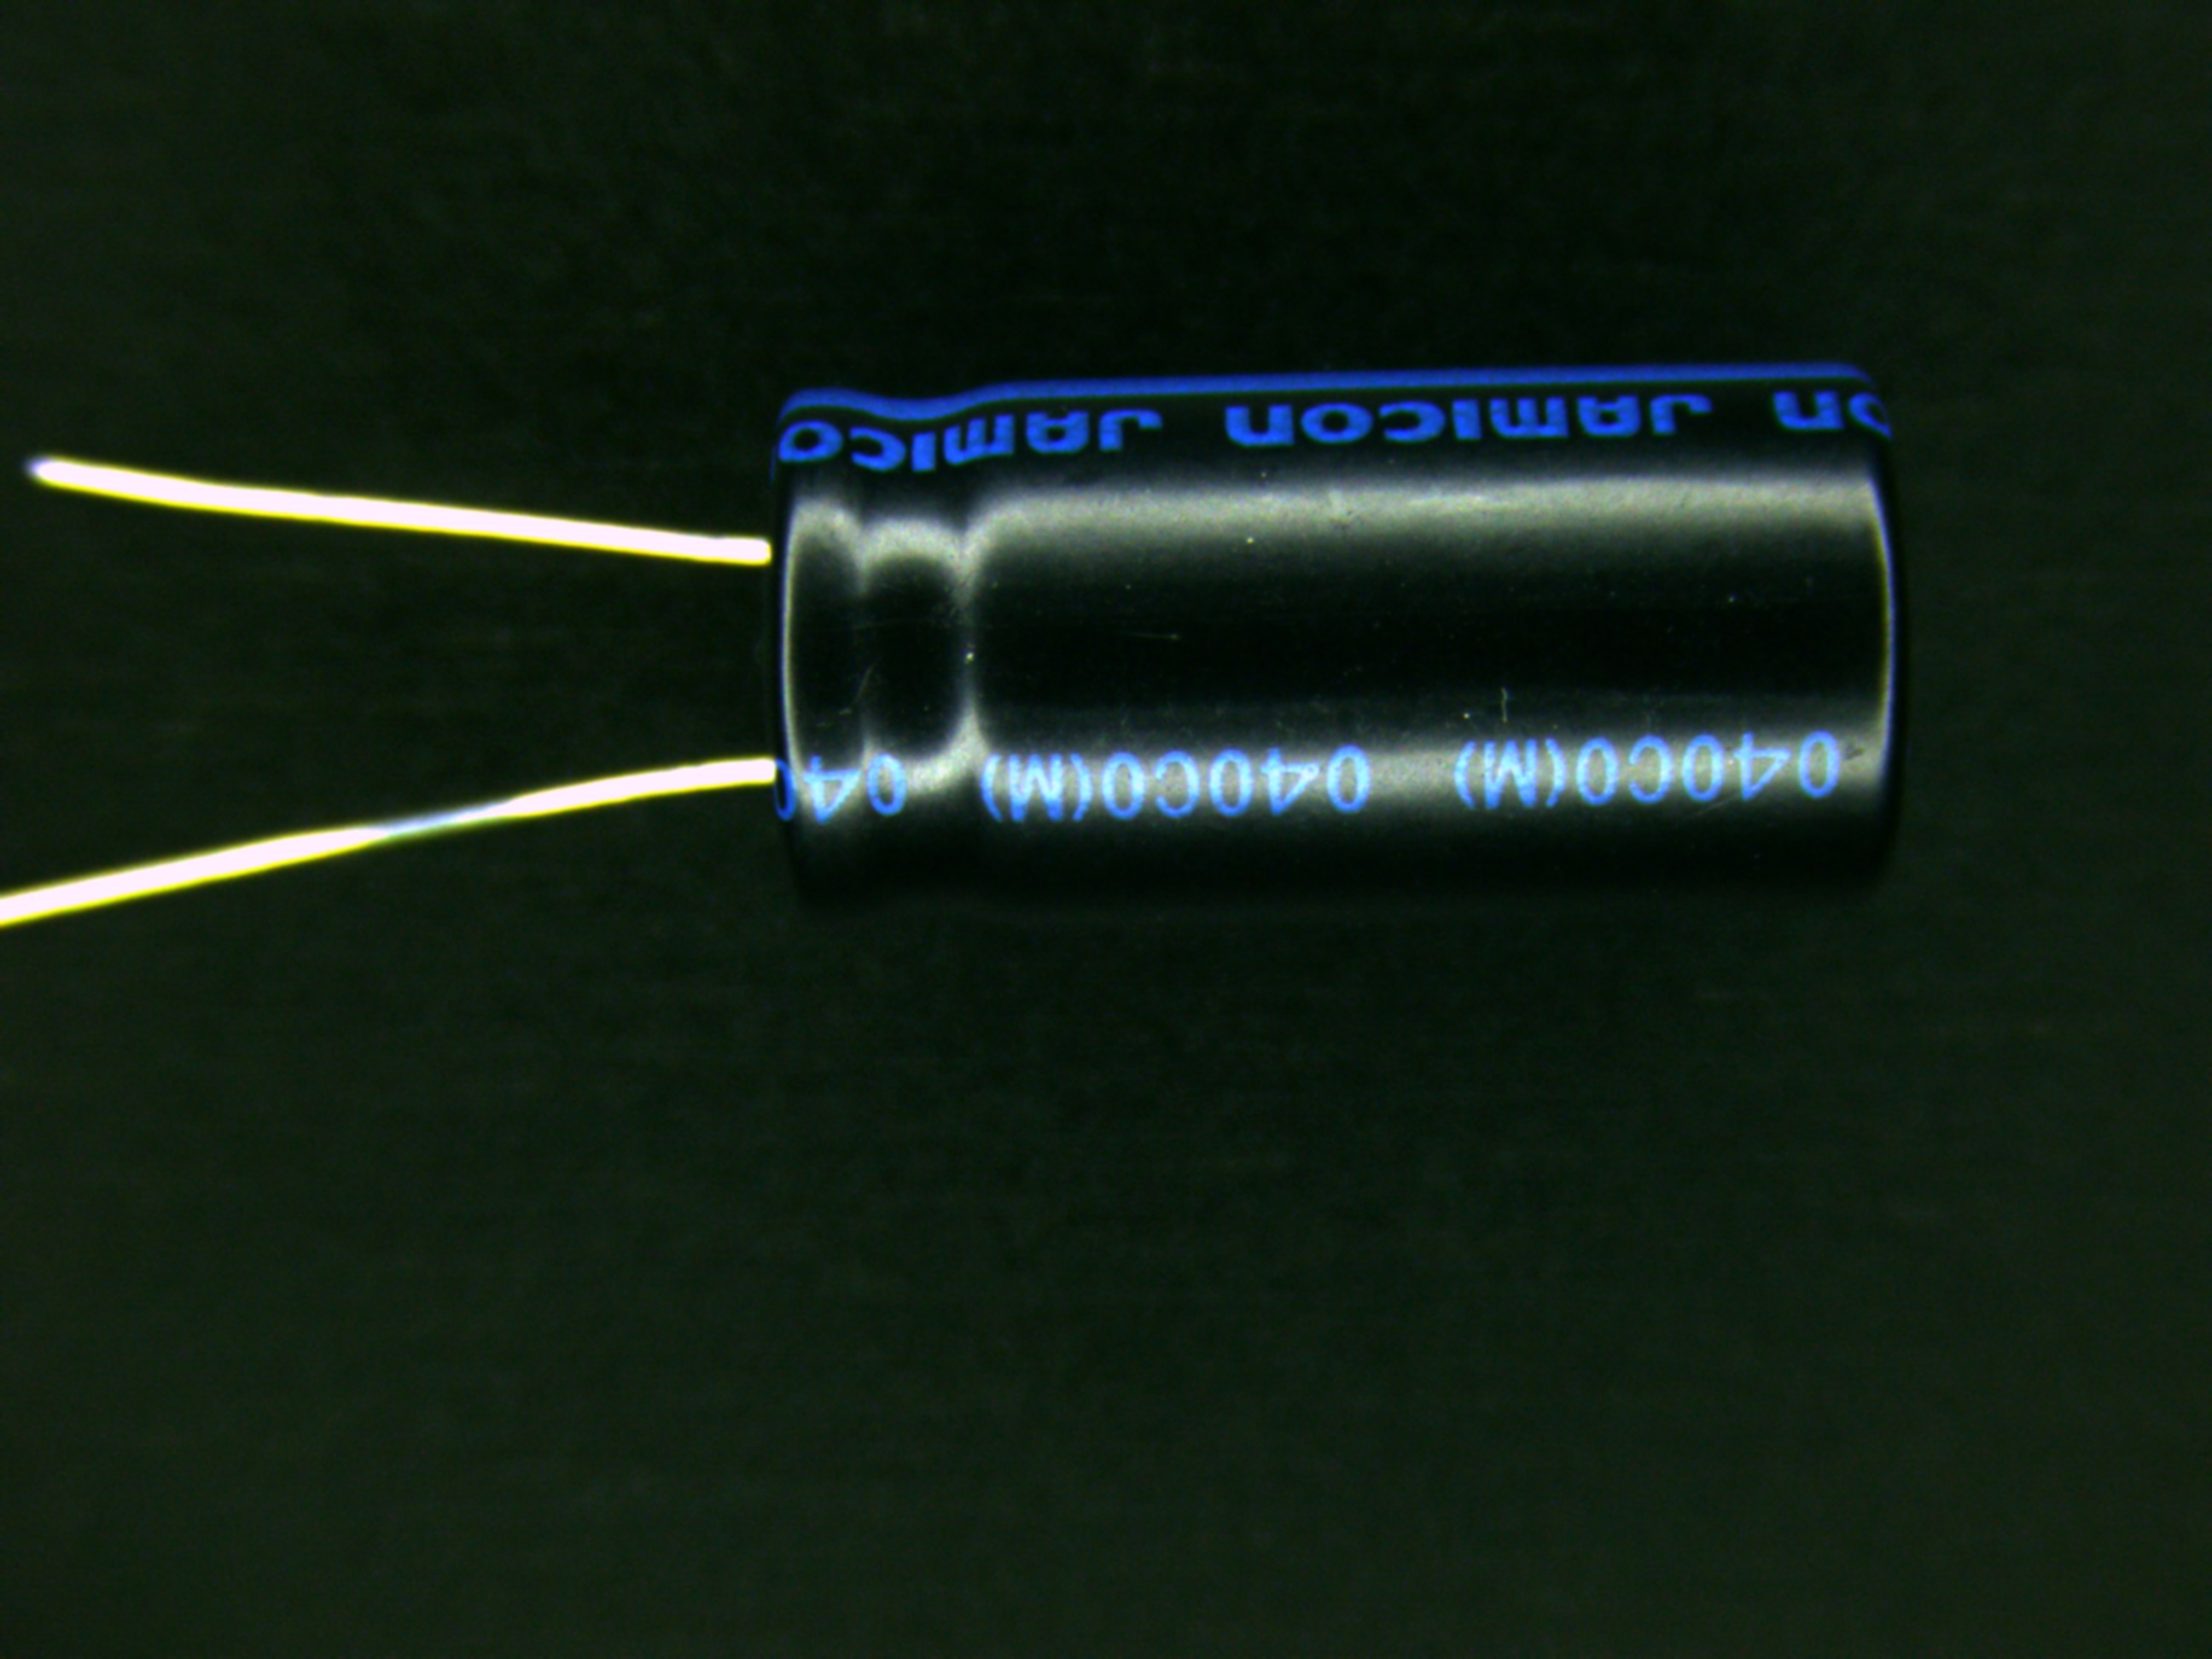c2: (618, 359, 1912, 885)
